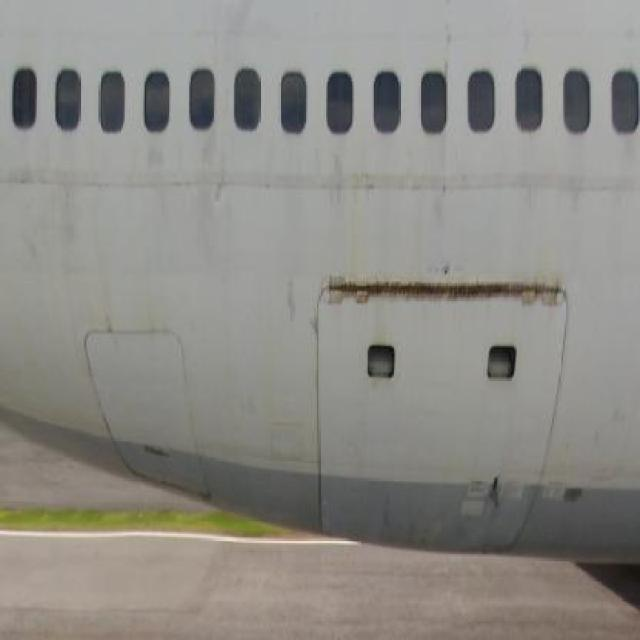Scartch: (318, 261, 568, 324)
